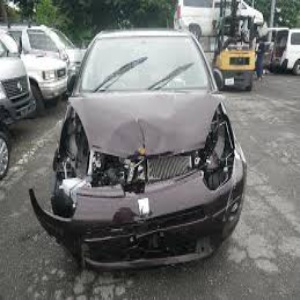bonnet: (71, 86, 225, 154)
bumper: (25, 159, 253, 269)
